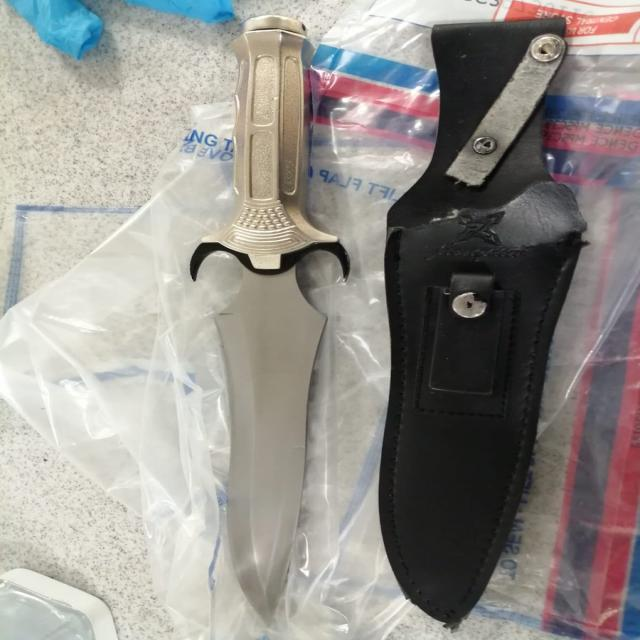Sharp-Object: (192, 14, 338, 628)
